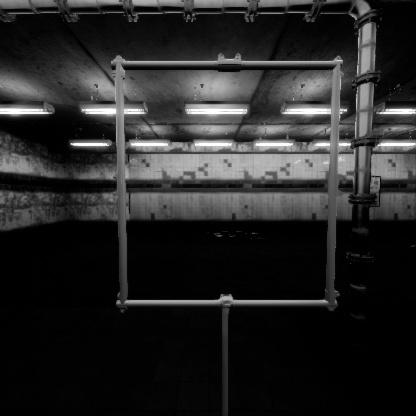gate: (116, 106, 361, 355)
